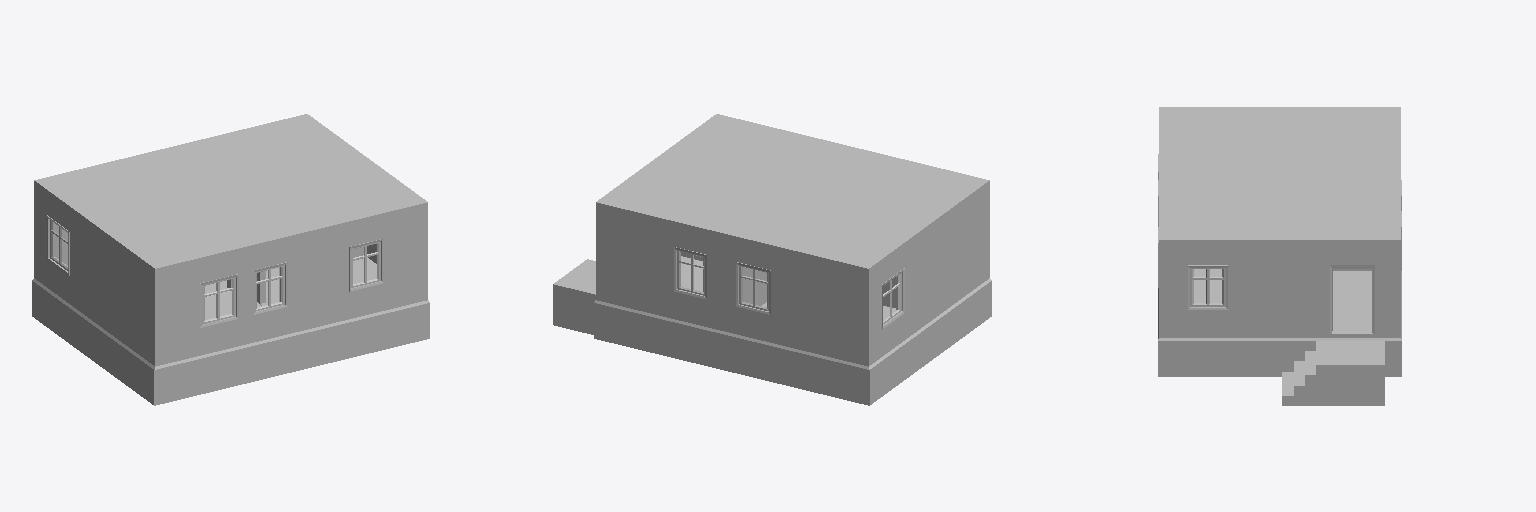
File: house2.obj
3 renders of one model, left to right at view 1: azimuth 30°, elevation 25°; view 2: azimuth 150°, elevation 25°; view 3: azimuth 270°, elevation 25°, orthographic.
Parts seen in each view (by area): view 1: Cube.001_Cube; view 2: Cube.001_Cube; view 3: Cube.001_Cube.
Part boxes in pixels (bbox=[...]): Cube.001_Cube: bbox=[32, 114, 429, 405]; Cube.001_Cube: bbox=[553, 114, 991, 405]; Cube.001_Cube: bbox=[1158, 107, 1401, 405].
Size of the model in its own units: 2.6 by 1.08 by 1.69.